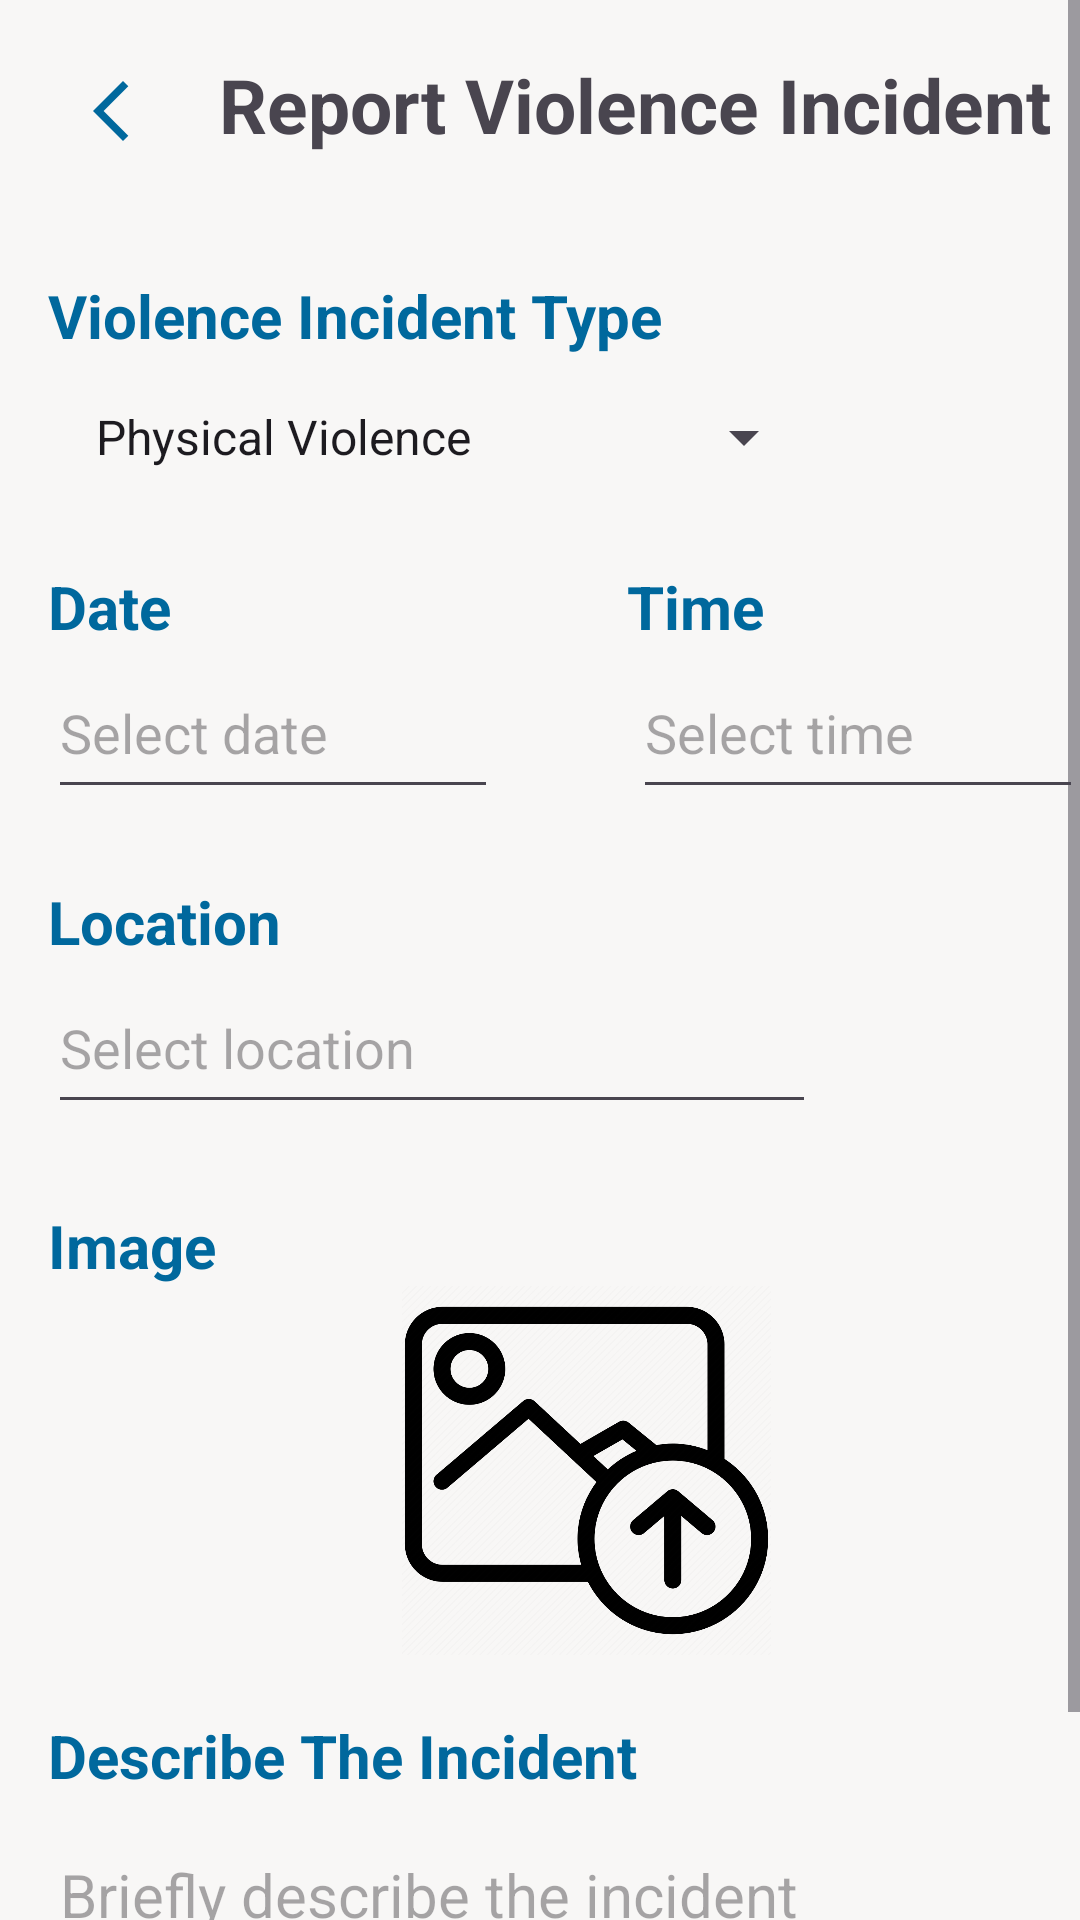

Screen size 1080 x 1920. Icon name, then its box in pixels as box=[x1, y1, x2, y2]:
back: box=[93, 81, 128, 141]
